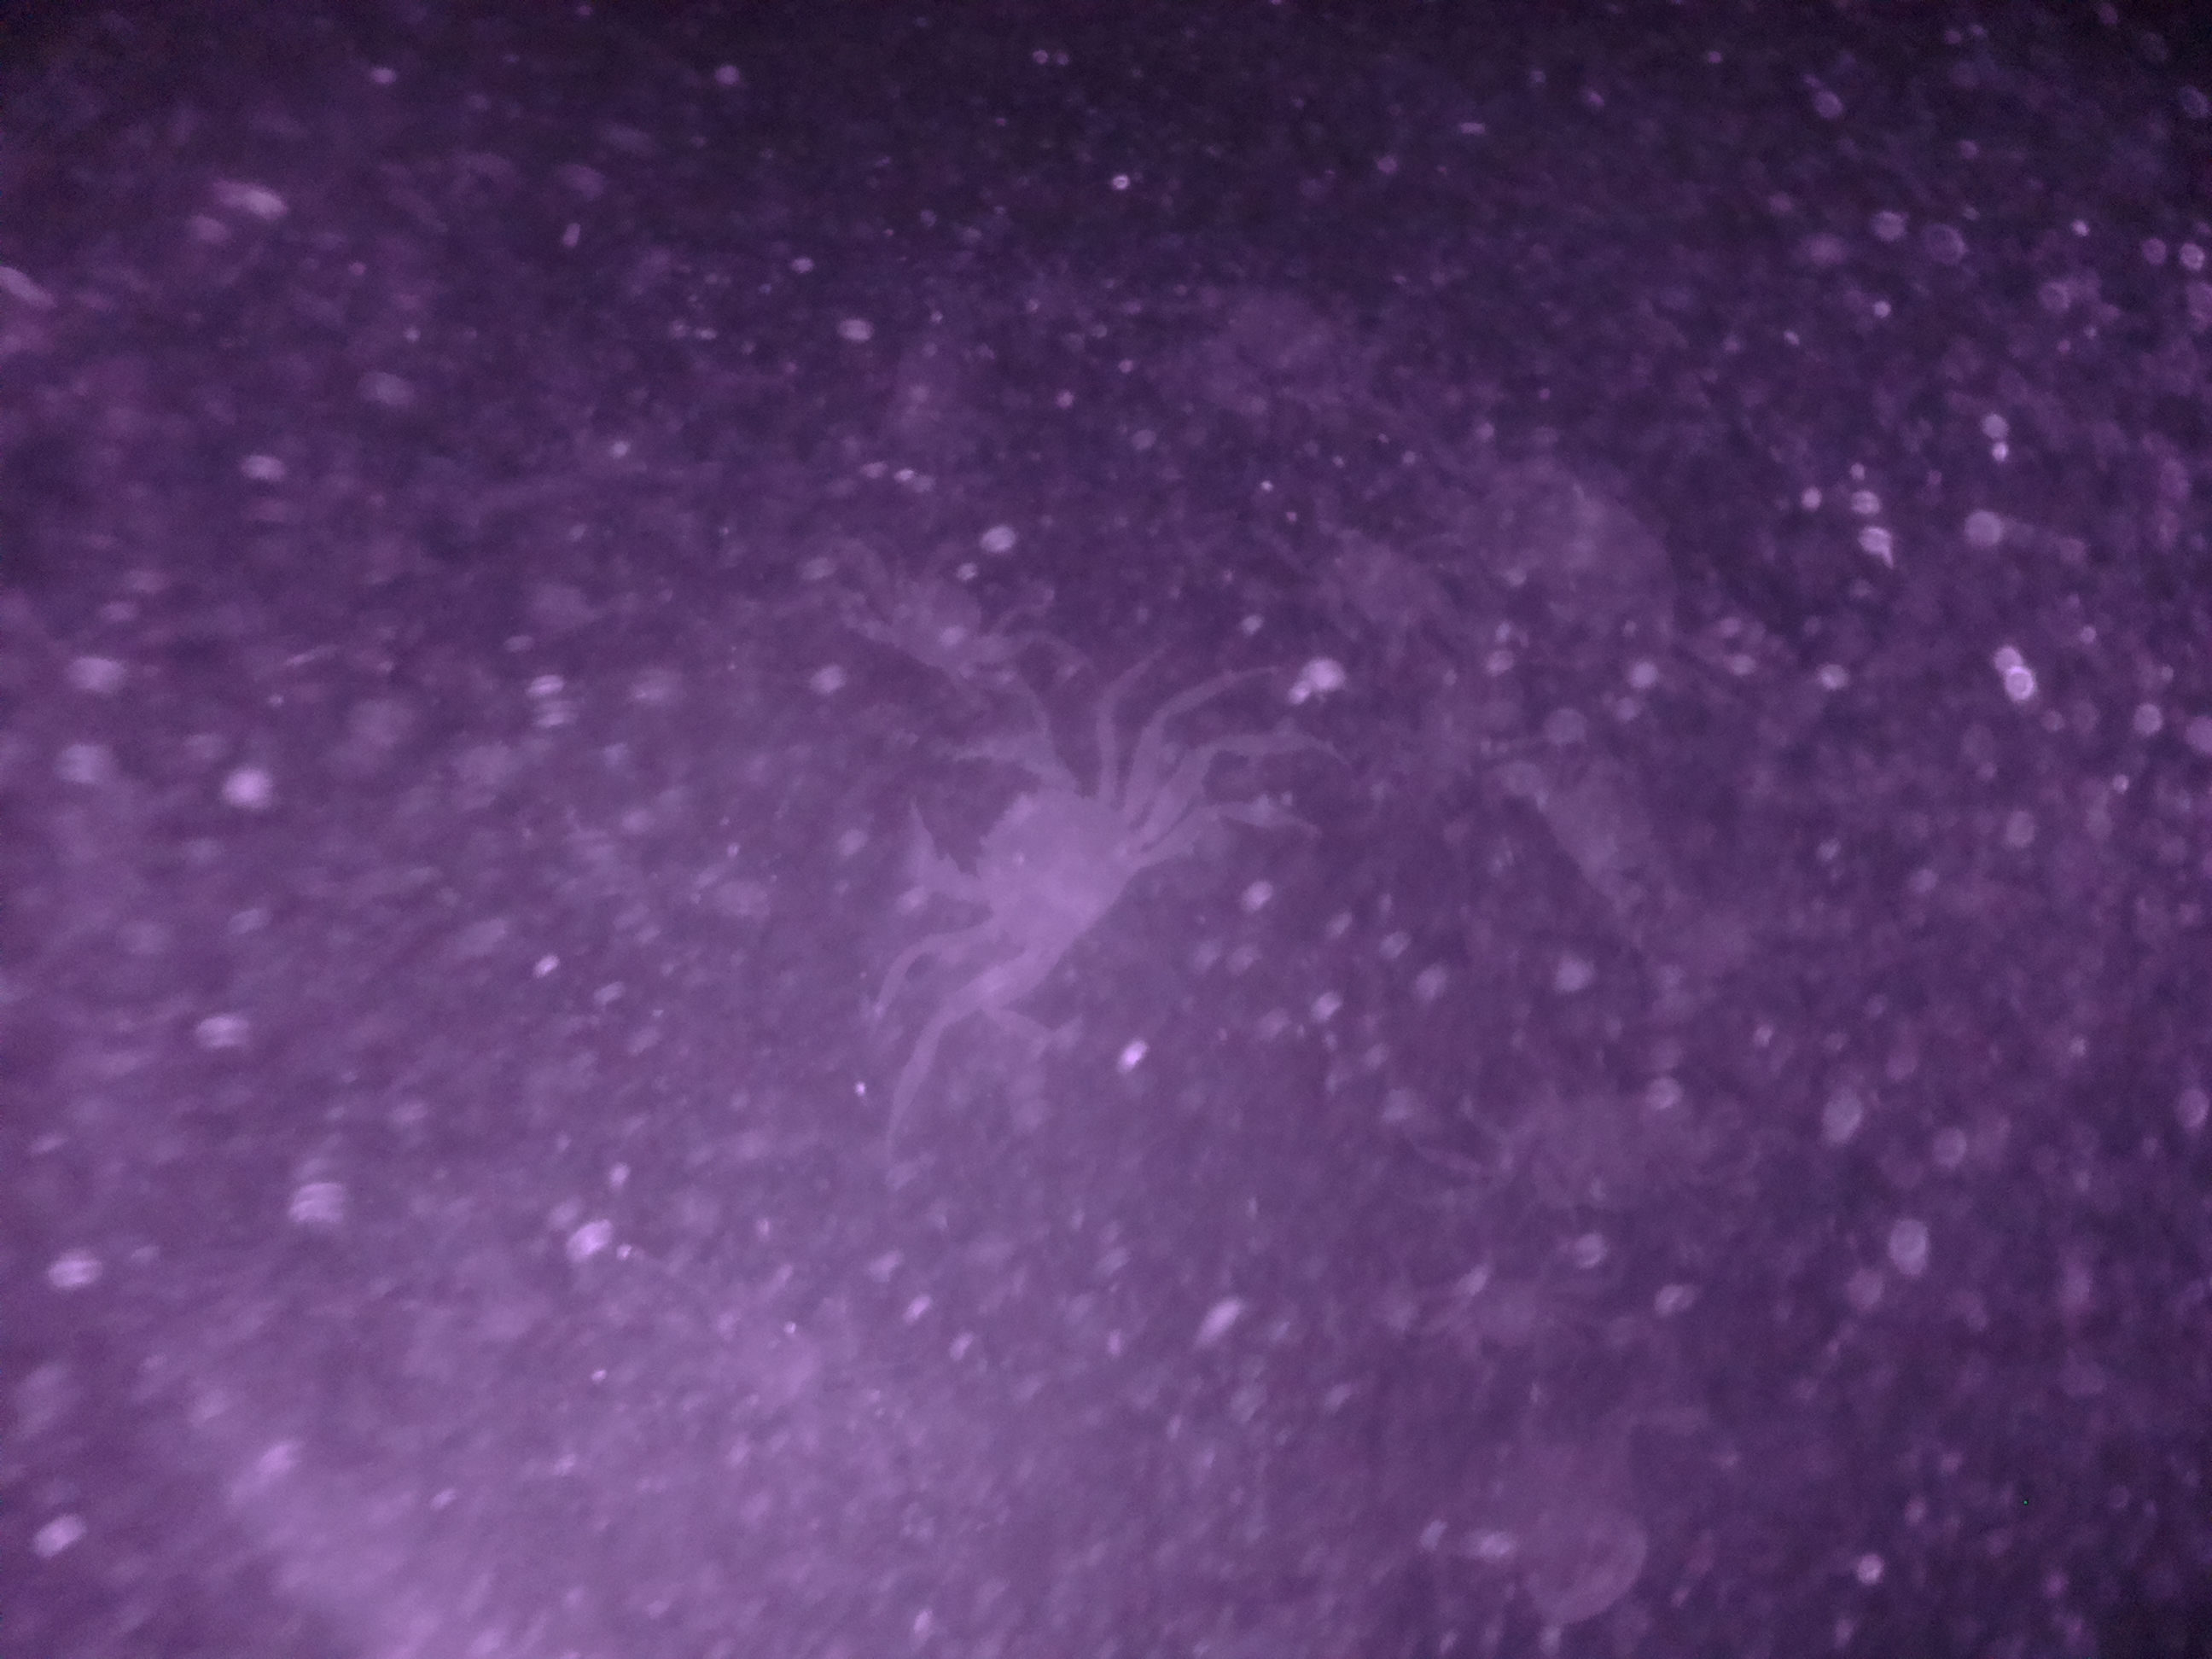Crab: (890, 711, 1163, 988)
